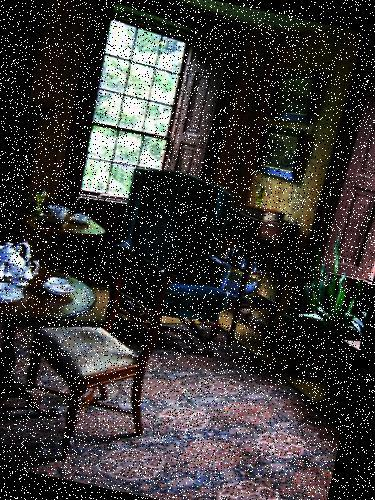Mesa: (0, 249, 94, 471)
Silla: (8, 228, 178, 472), (101, 159, 254, 362)
